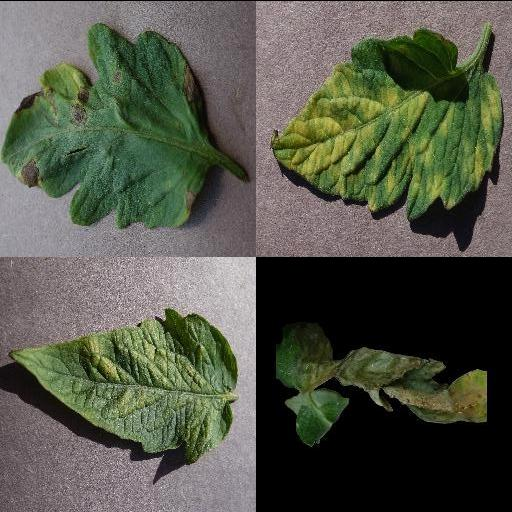Early Blight: (1, 21, 211, 229)
Late Blight: (275, 319, 487, 445)
Leaf Mold: (269, 28, 501, 219)
Spider Mites: (9, 307, 239, 461)
